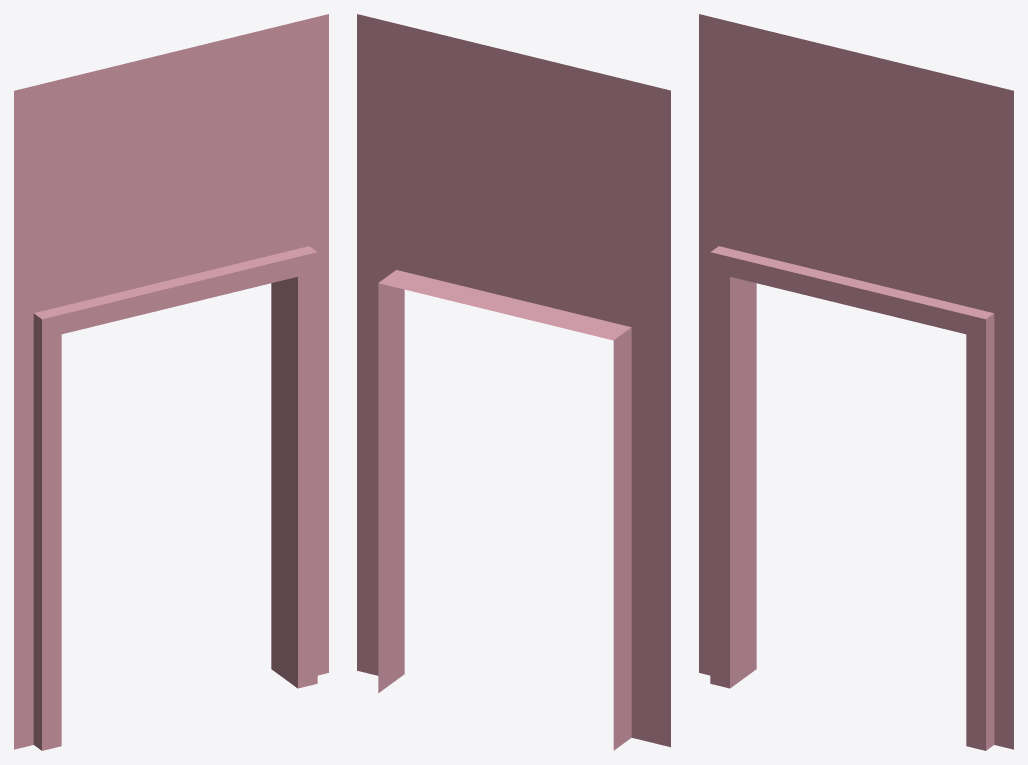
The model's file is IntWallDoorway.fbx.
The picture shows the model from 3 angles, left to right: view 1: azimuth 30°, elevation 25°; view 2: azimuth 150°, elevation 25°; view 3: azimuth 330°, elevation 25°; orthographic projection.
Visible parts, largest first — view 1: IntWallDoorway; view 2: IntWallDoorway; view 3: IntWallDoorway.
Boxes of the visible parts, x1,y1,x2,y2 form: IntWallDoorway: [14, 14, 328, 750]; IntWallDoorway: [357, 14, 670, 750]; IntWallDoorway: [699, 14, 1013, 750].
Bounding box in the file's own units: 200 × 400 × 29.15.
